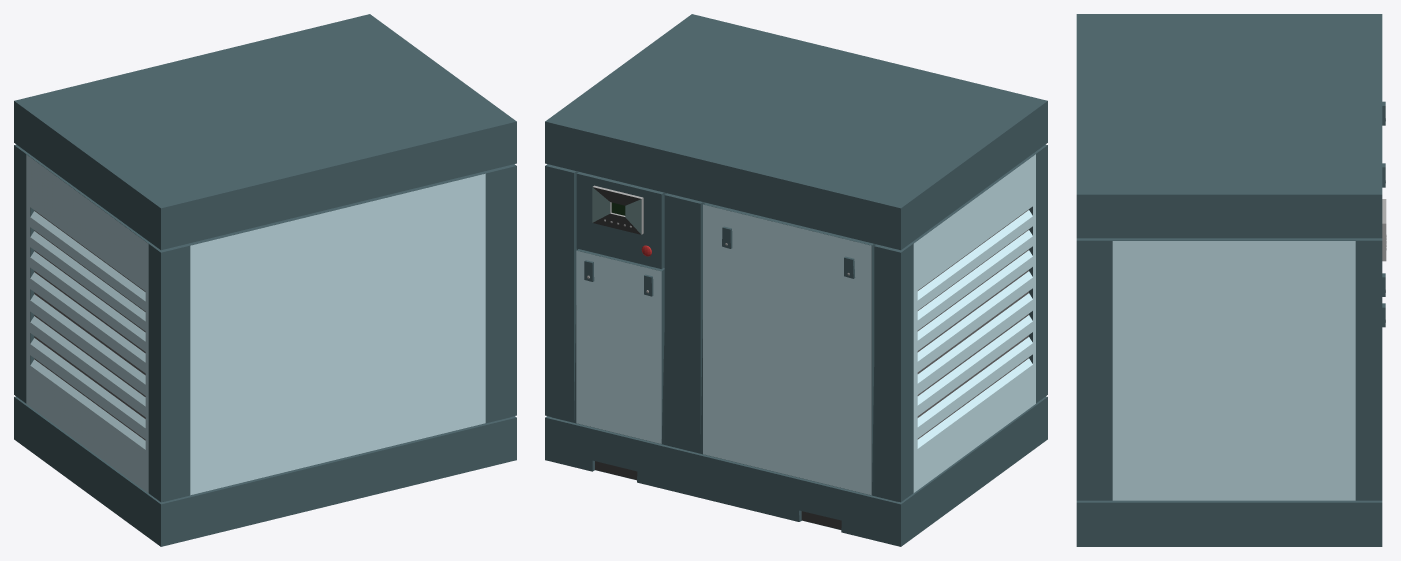
File: aircomp1_2.glb
3 renders of one model, left to right at view 1: azimuth 30°, elevation 25°; view 2: azimuth 150°, elevation 25°; view 3: azimuth 270°, elevation 25°, orthographic. The views are drawn at different scales.
Size of the model in its own units: 1.65 by 1.5 by 1.2.
